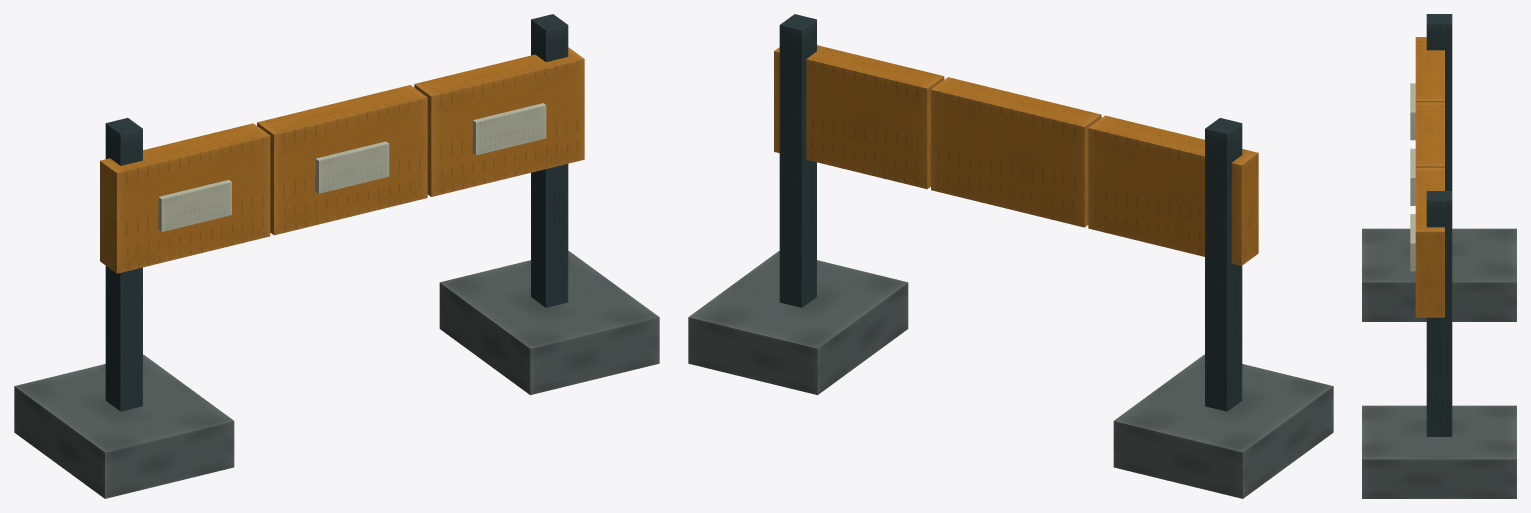
The model's file is road_barrier.fbx.
3 renders of one model, left to right at view 1: azimuth 30°, elevation 25°; view 2: azimuth 150°, elevation 25°; view 3: azimuth 270°, elevation 25°, orthographic. The views are drawn at different scales.
Visible parts, largest first — view 1: road_barrier__foot.001, road_barrier__foot, road_barrier__barrier_panel, road_barrier__barrier_panel.001, road_barrier__barrier_panel.002, road_barrier__upright, road_barrier__upright.001, road_barrier__reflector.001, road_barrier__reflector, road_barrier__reflector.002; view 2: road_barrier__foot.001, road_barrier__foot, road_barrier__barrier_panel.001, road_barrier__barrier_panel, road_barrier__barrier_panel.002, road_barrier__upright.001, road_barrier__upright; view 3: road_barrier__foot.001, road_barrier__foot, road_barrier__upright.001, road_barrier__barrier_panel.002, road_barrier__upright, road_barrier__barrier_panel.001, road_barrier__barrier_panel, road_barrier__reflector, road_barrier__reflector.001, road_barrier__reflector.002.
Part boxes in pixels (x1,y1,x2,y2): road_barrier__foot.001: [439, 251, 659, 395]; road_barrier__foot: [14, 354, 234, 498]; road_barrier__barrier_panel: [100, 123, 270, 273]; road_barrier__barrier_panel.001: [257, 85, 427, 235]; road_barrier__barrier_panel.002: [414, 47, 584, 196]; road_barrier__upright: [105, 118, 142, 411]; road_barrier__upright.001: [531, 14, 568, 307]; road_barrier__reflector.001: [315, 141, 389, 193]; road_barrier__reflector: [158, 180, 231, 231]; road_barrier__reflector.002: [473, 103, 546, 155]; road_barrier__foot.001: [688, 251, 908, 395]; road_barrier__foot: [1113, 354, 1333, 498]; road_barrier__barrier_panel.001: [931, 77, 1101, 227]; road_barrier__barrier_panel: [1088, 115, 1258, 265]; road_barrier__barrier_panel.002: [774, 45, 944, 189]; road_barrier__upright.001: [779, 14, 816, 307]; road_barrier__upright: [1205, 118, 1242, 411]; road_barrier__foot.001: [1362, 405, 1516, 498]; road_barrier__foot: [1362, 228, 1516, 321]; road_barrier__upright.001: [1426, 191, 1452, 436]; road_barrier__barrier_panel.002: [1415, 167, 1444, 317]; road_barrier__upright: [1426, 14, 1452, 190]; road_barrier__barrier_panel.001: [1415, 102, 1444, 167]; road_barrier__barrier_panel: [1415, 37, 1444, 102]; road_barrier__reflector: [1410, 83, 1415, 140]; road_barrier__reflector.001: [1410, 148, 1415, 205]; road_barrier__reflector.002: [1410, 214, 1415, 271].
Bounding box in the file's own units: 300 × 168 × 85.
Materials: 4 (4 with a texture image).
